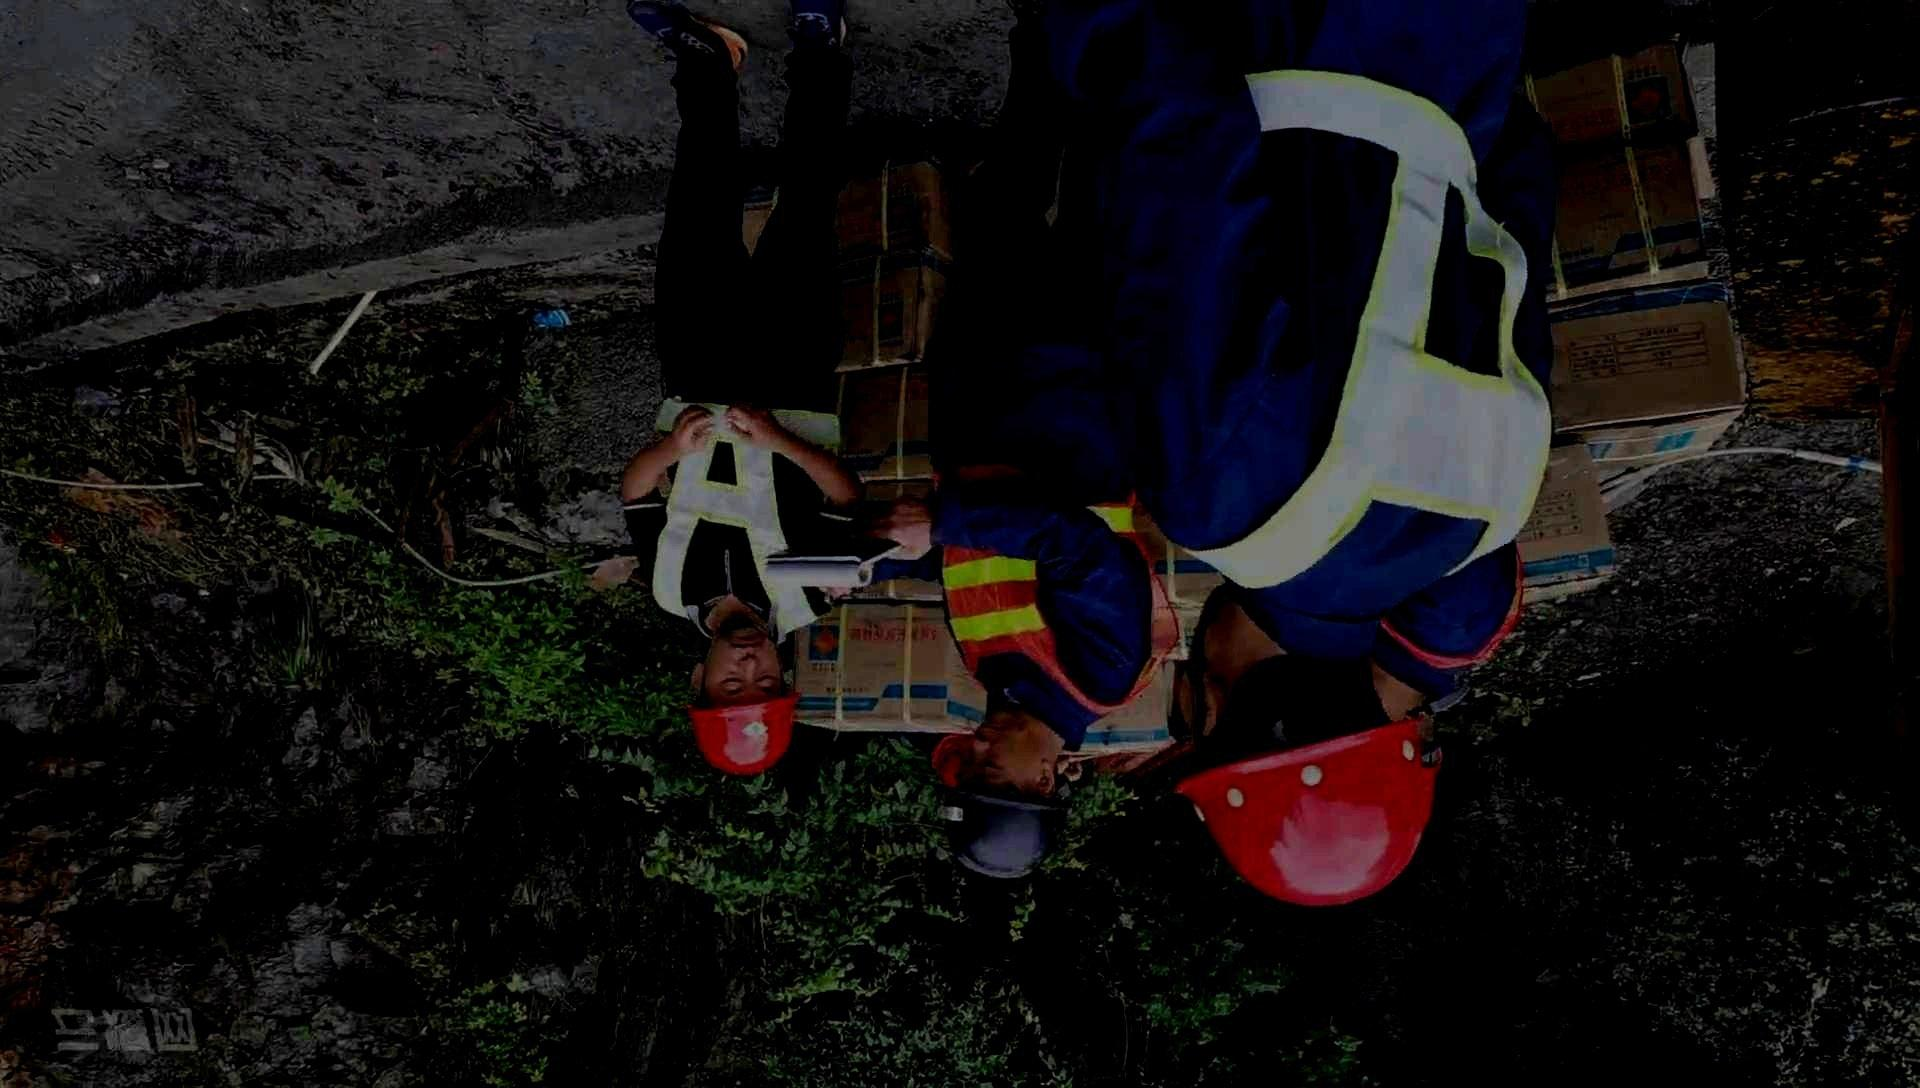helmet: (1168, 582, 1444, 909), (940, 710, 1062, 880), (686, 619, 802, 775)
